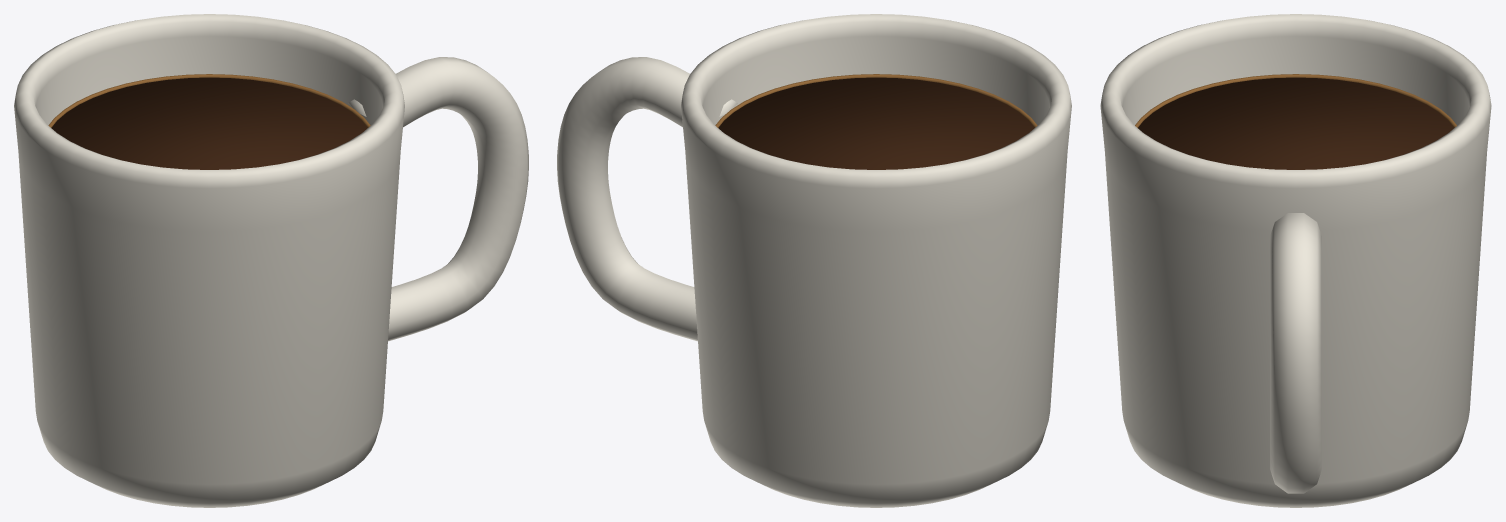
Rendered from furniture-mug.glb.
The picture shows the model from 3 angles, left to right: view 1: azimuth 30°, elevation 25°; view 2: azimuth 150°, elevation 25°; view 3: azimuth 270°, elevation 25°; orthographic projection.
Visible parts, largest first — view 1: mug__studio_ceramic_ivory, mug__studio_coffee, mug__studio_coffee_crema; view 2: mug__studio_ceramic_ivory, mug__studio_coffee, mug__studio_coffee_crema; view 3: mug__studio_ceramic_ivory, mug__studio_coffee, mug__studio_coffee_crema.
Part boxes in pixels (x1=…): mug__studio_ceramic_ivory: x1=14, y1=14, x2=528, y2=507; mug__studio_coffee: x1=51, y1=77, x2=367, y2=169; mug__studio_coffee_crema: x1=48, y1=74, x2=370, y2=127; mug__studio_ceramic_ivory: x1=557, y1=14, x2=1071, y2=507; mug__studio_coffee: x1=718, y1=77, x2=1034, y2=169; mug__studio_coffee_crema: x1=715, y1=74, x2=1037, y2=127; mug__studio_ceramic_ivory: x1=1100, y1=14, x2=1491, y2=507; mug__studio_coffee: x1=1138, y1=77, x2=1453, y2=169; mug__studio_coffee_crema: x1=1135, y1=74, x2=1456, y2=127.
Size of the model in its own units: 0.2576 by 0.18 by 0.18.
